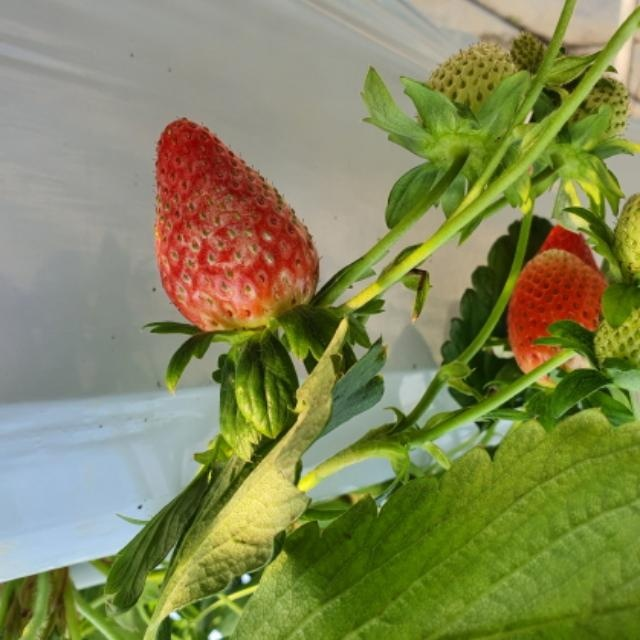Powdery Mildew Fruit: (153, 116, 319, 332)
